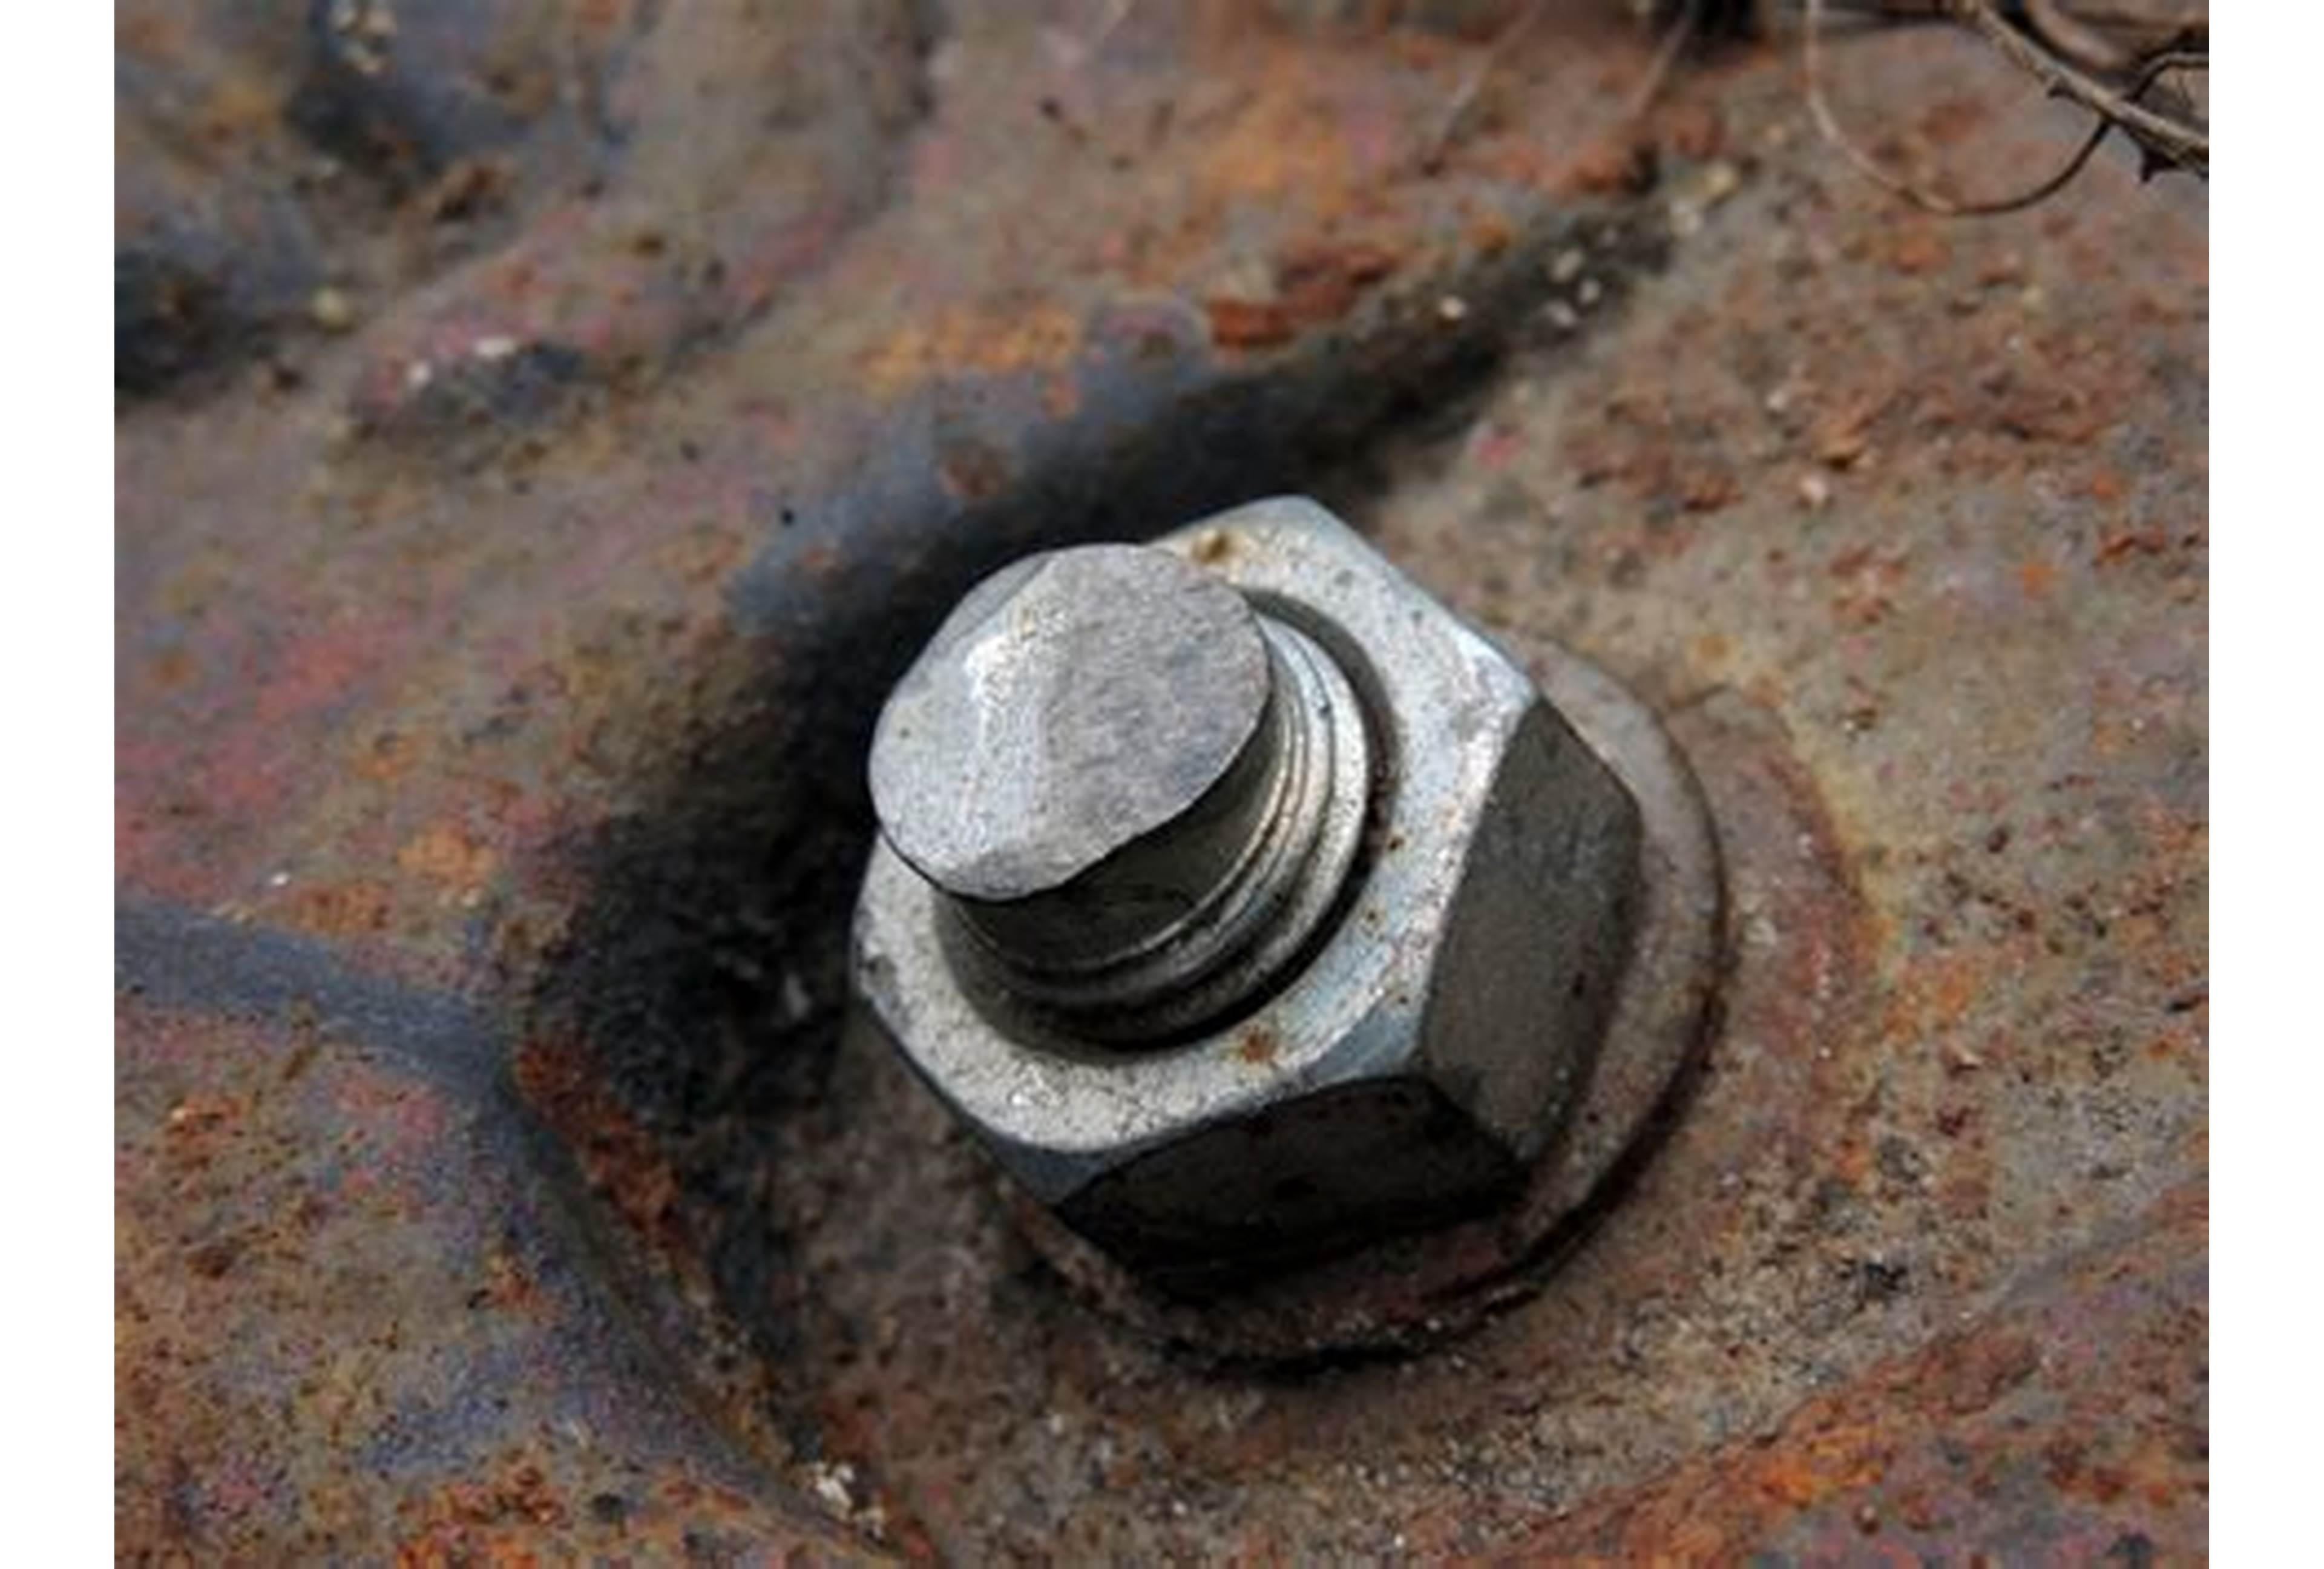bolt_b: (840, 485, 1645, 1292)
